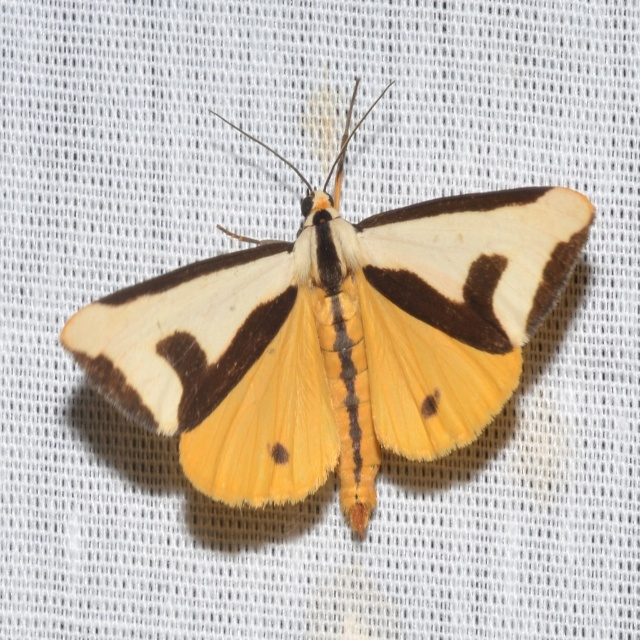Butterfly: (72, 67, 602, 541)
